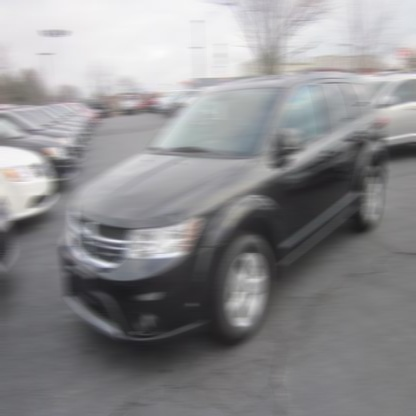Vehicle: (62, 75, 386, 350)
